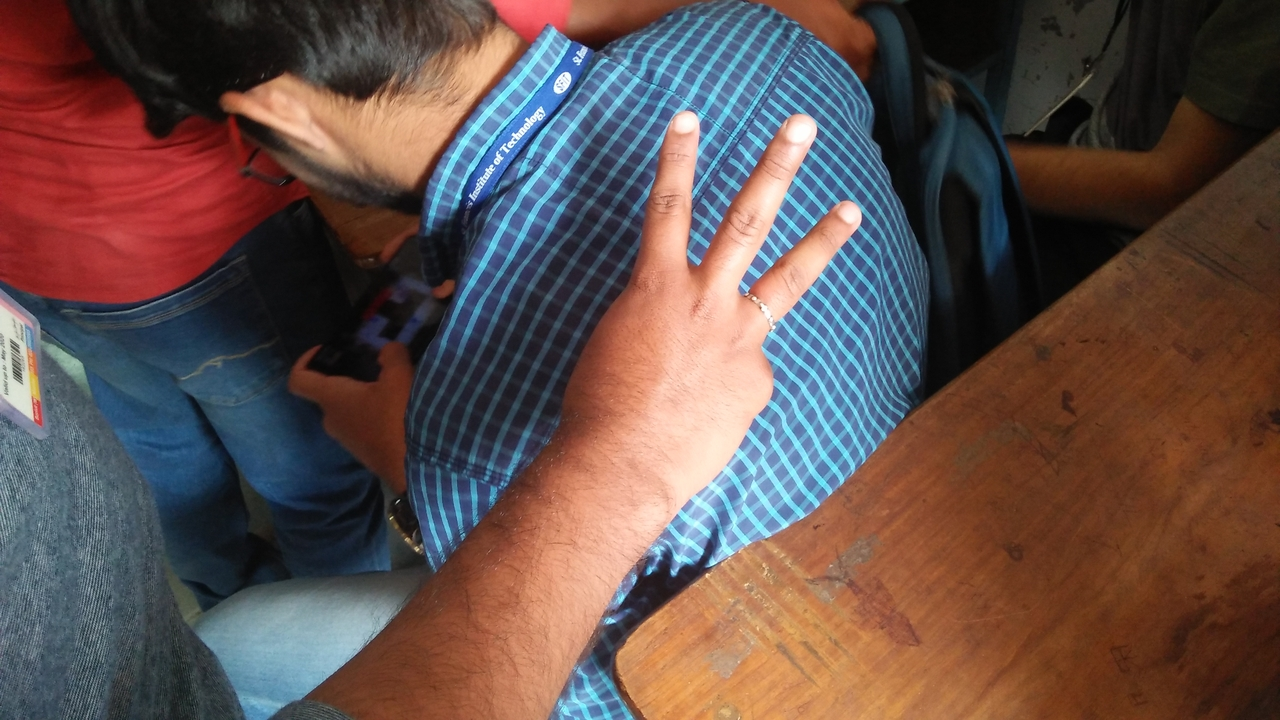fingertip: (764, 98, 828, 156), (806, 184, 870, 242), (658, 100, 704, 148)
